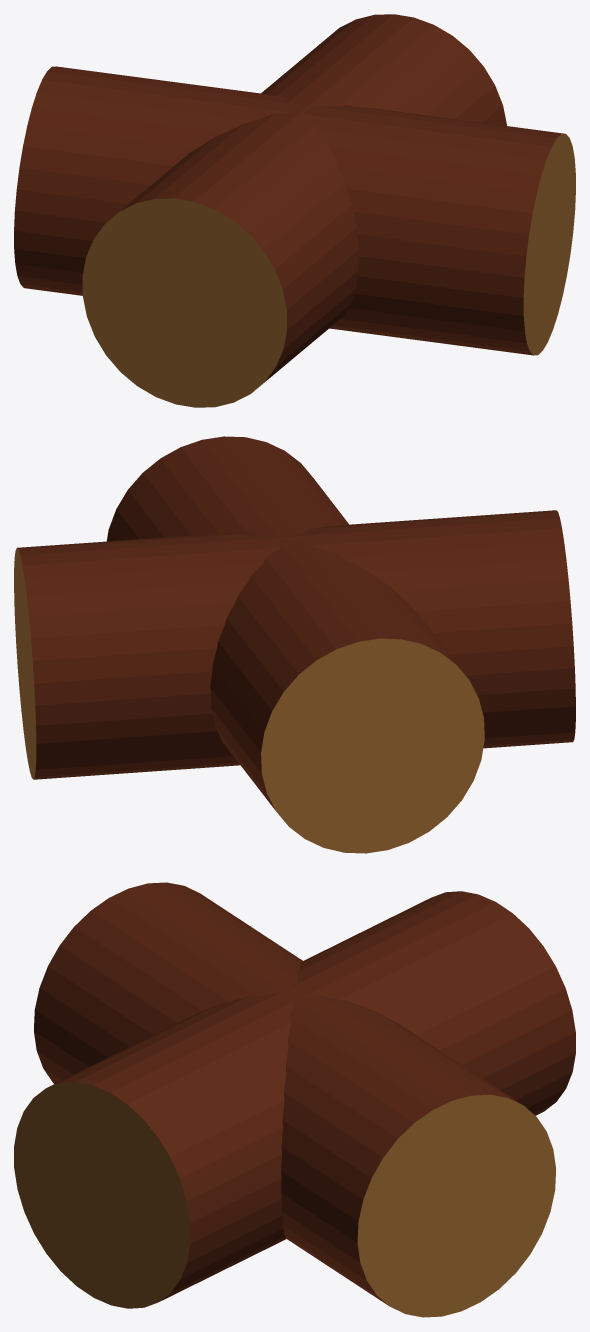
Rendered from fogueira.fbx.
3 views of the same model, one above another, from view 1: azimuth 30°, elevation 25°; view 2: azimuth 150°, elevation 25°; view 3: azimuth 270°, elevation 25° (orthographic). The views are drawn at different scales.
Visible parts, largest first — view 1: Cylinder.001, Cylinder; view 2: Cylinder, Cylinder.001; view 3: Cylinder.001, Cylinder.
Part boxes in pixels (x1,y1,x2,y2): Cylinder.001: [14, 66, 575, 355]; Cylinder: [82, 14, 506, 407]; Cylinder: [14, 510, 575, 779]; Cylinder.001: [106, 436, 484, 853]; Cylinder.001: [14, 891, 575, 1308]; Cylinder: [34, 882, 555, 1317].
Size of the model in its own units: 368 by 159 by 345.
